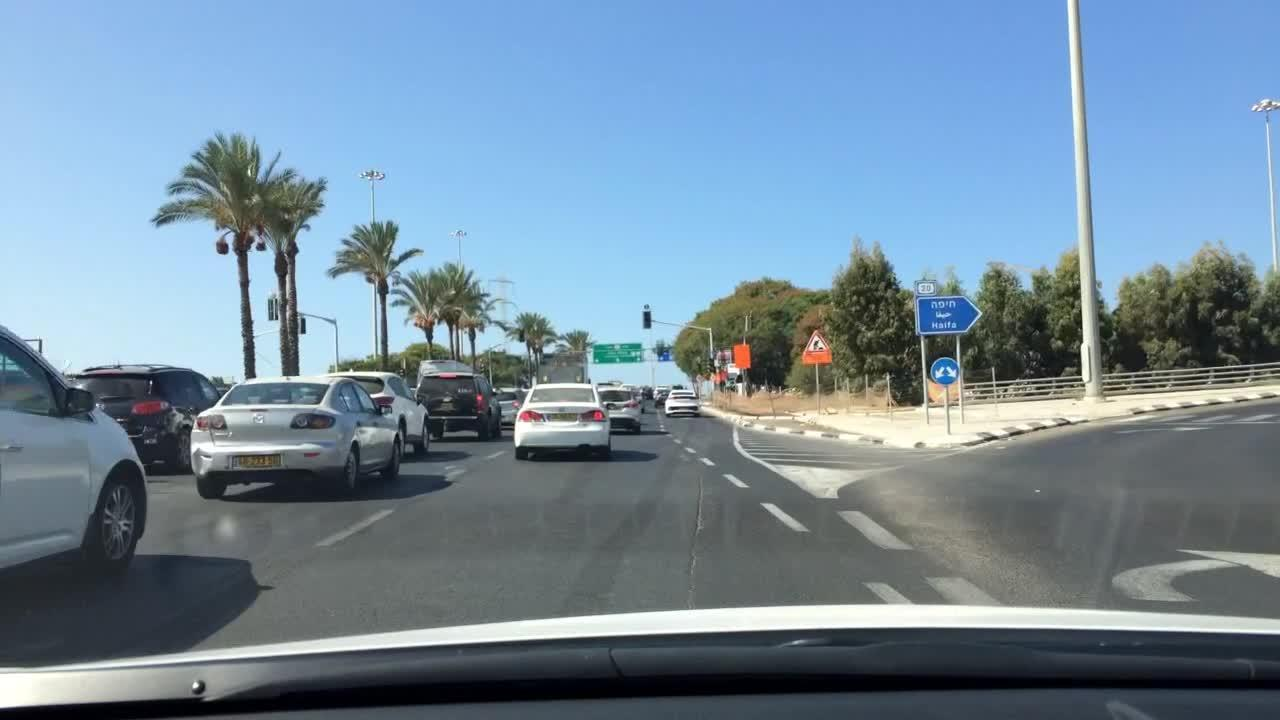Mazda: (244, 410, 276, 431)
